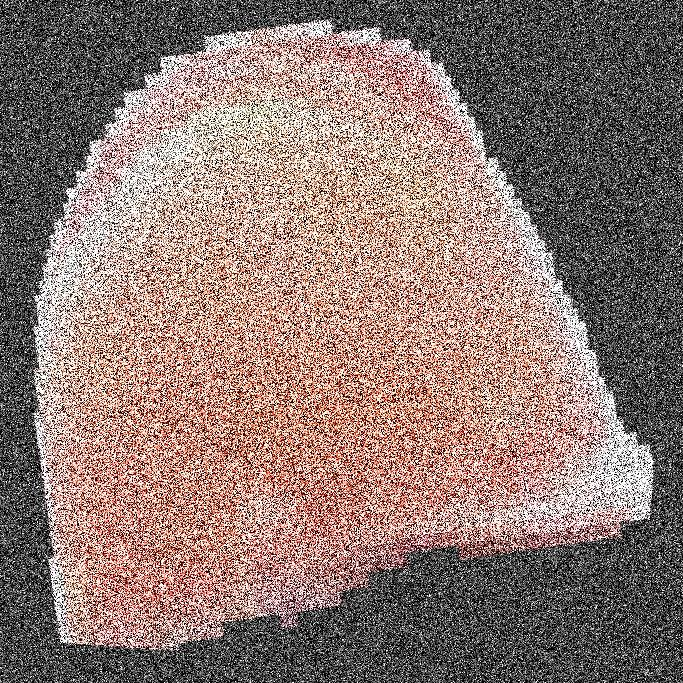Capacete: (76, 0, 491, 682)
